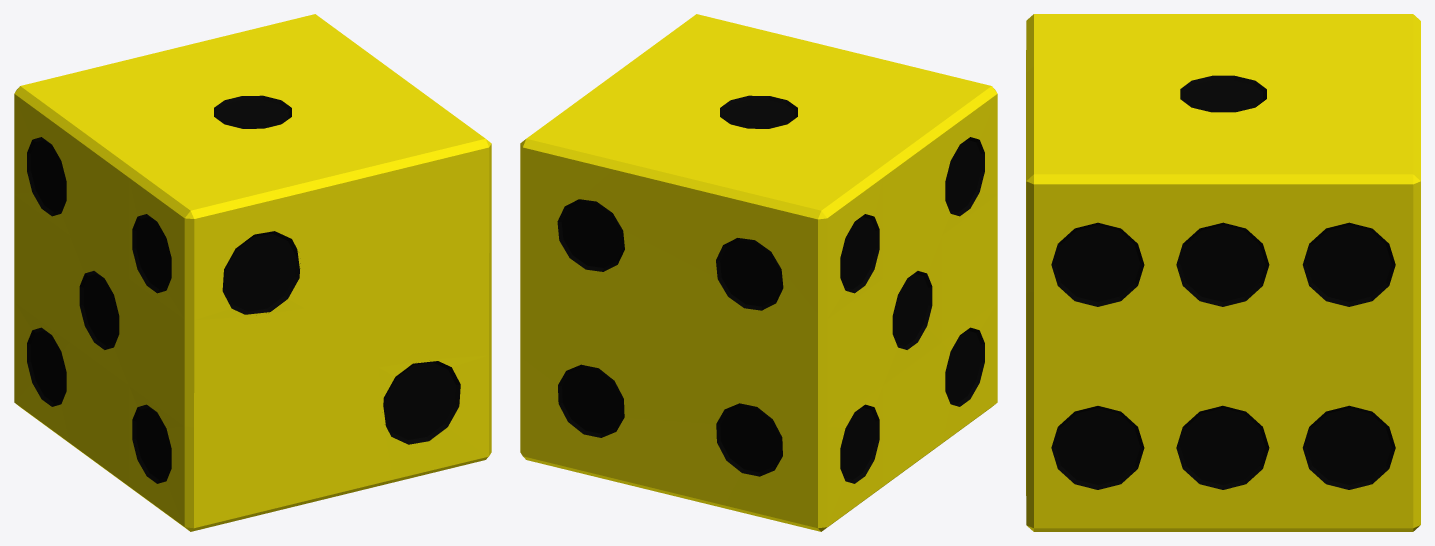
Rendered from DiceG.fbx.
3 views of the same model, side by side, from view 1: azimuth 30°, elevation 25°; view 2: azimuth 150°, elevation 25°; view 3: azimuth 270°, elevation 25° (orthographic). The views are drawn at different scales.
Visible parts, largest first — view 1: Cube.011; view 2: Cube.011; view 3: Cube.011.
Boxes of the visible parts, x1,y1,x2,y2 form: Cube.011: (14, 14, 491, 531); Cube.011: (520, 14, 997, 531); Cube.011: (1026, 14, 1420, 531).
Bounding box in the file's own units: 160 × 160 × 160.
